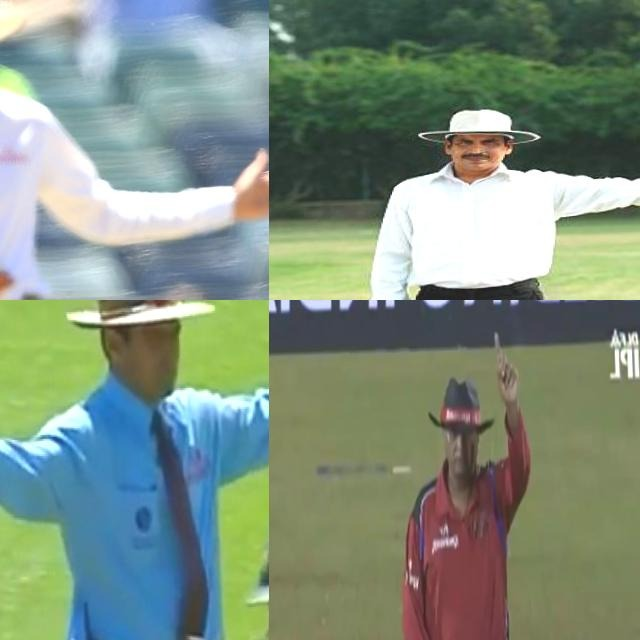No_Ball: (0, 0, 269, 300), (365, 93, 640, 300)
Out: (390, 318, 547, 640)
Wide: (0, 300, 269, 640)
